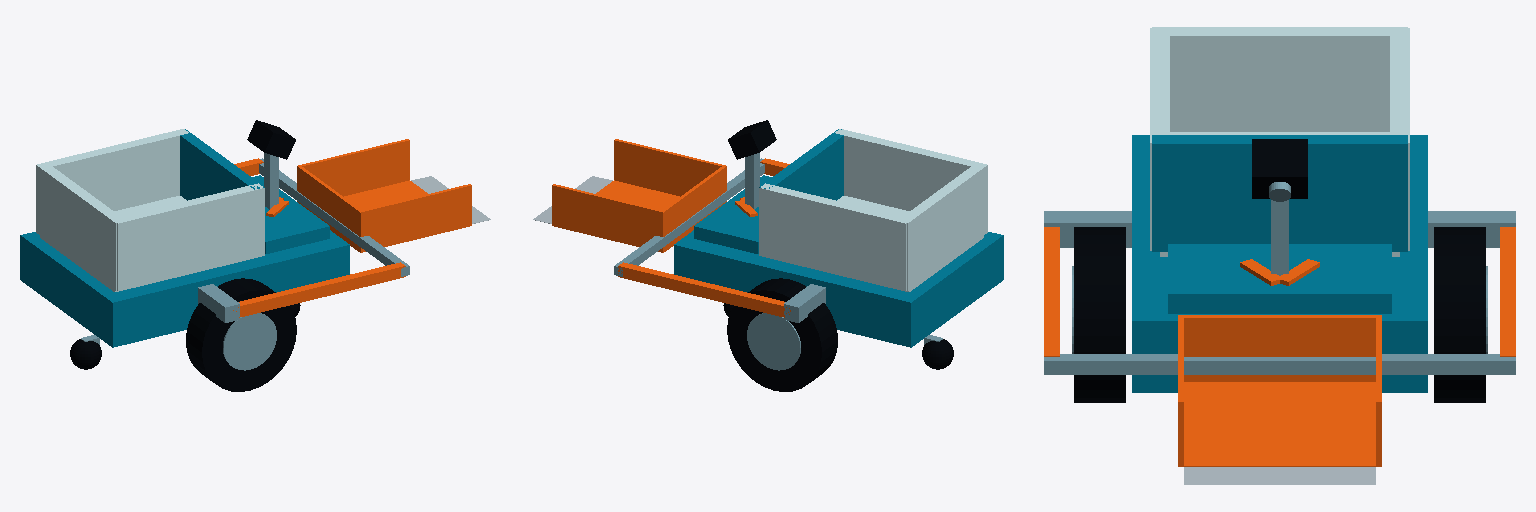
URDF robot description (tennis_ball_collector):
<?xml version='1.0' encoding='utf-8'?>
<robot name="tennis_ball_collector">
  <material name="body">
    <color rgba="0.03 0.53 0.65 1" />
  </material>
  <material name="basket">
    <color rgba="0.80 0.91 0.93 1" />
  </material>
  <material name="orange">
    <color rgba="1.0 0.44 0.10 1" />
  </material>
  <material name="rubber">
    <color rgba="0.045 0.06 0.08 1" />
  </material>
  <material name="hub">
    <color rgba="0.50 0.65 0.70 1" />
  </material>
  <link name="base_link">
    <inertial>
      <origin xyz="-0.025 0 0" />
      <mass value="7.0" />
      <inertia ixx="0.087" ixy="0" ixz="0" iyy="0.184" iyz="0" izz="0.256" />
    </inertial>
    <visual name="chassis">
      <origin xyz="0 0 -0.025" />
      <geometry>
        <box size="0.55 0.37 0.10" />
      </geometry>
      <material name="body" />
    </visual>
    <collision name="chassis_collision">
      <origin xyz="0 0 -0.025" />
      <geometry>
        <box size="0.55 0.37 0.10" />
      </geometry>
    </collision>
    <visual name="basket_floor">
      <origin xyz="-0.08 0 0.04" />
      <geometry>
        <box size="0.34 0.30 0.025" />
      </geometry>
      <material name="basket" />
    </visual>
    <collision name="basket_floor_collision">
      <origin xyz="-0.08 0 0.04" />
      <geometry>
        <box size="0.34 0.30 0.025" />
      </geometry>
    </collision>
    <visual name="basket_back">
      <origin xyz="-0.24 0 0.11" />
      <geometry>
        <box size="0.025 0.32 0.15" />
      </geometry>
      <material name="basket" />
    </visual>
    <collision name="basket_back_collision">
      <origin xyz="-0.24 0 0.11" />
      <geometry>
        <box size="0.025 0.32 0.15" />
      </geometry>
    </collision>
    <visual name="basket_left">
      <origin xyz="-0.08 0.15 0.11" />
      <geometry>
        <box size="0.34 0.025 0.15" />
      </geometry>
      <material name="basket" />
    </visual>
    <collision name="basket_left_collision">
      <origin xyz="-0.08 0.15 0.11" />
      <geometry>
        <box size="0.34 0.025 0.15" />
      </geometry>
    </collision>
    <visual name="basket_right">
      <origin xyz="-0.08 -0.15 0.11" />
      <geometry>
        <box size="0.34 0.025 0.15" />
      </geometry>
      <material name="basket" />
    </visual>
    <collision name="basket_right_collision">
      <origin xyz="-0.08 -0.15 0.11" />
      <geometry>
        <box size="0.34 0.025 0.15" />
      </geometry>
    </collision>
    <visual name="basket_front">
      <origin xyz="0.08 0 0.11" />
      <geometry>
        <box size="0.025 0.32 0.15" />
      </geometry>
      <material name="body" />
    </visual>
    <collision name="basket_front_collision">
      <origin xyz="0.08 0 0.11" />
      <geometry>
        <box size="0.025 0.32 0.15" />
      </geometry>
    </collision>
    <visual name="arm_pivot_shaft">
      <origin xyz="-0.06 0 -0.005" />
      <geometry>
        <box size="0.035 0.59 0.035" />
      </geometry>
      <material name="hub" />
    </visual>
    <visual name="front_deck">
      <origin xyz="0.18 0 0.035" />
      <geometry>
        <box size="0.15 0.28 0.035" />
      </geometry>
      <material name="body" />
    </visual>
    <visual name="camera_stand">
      <origin xyz="0.20 0 0.11" />
      <geometry><box size="0.022 0.022 0.14" /></geometry>
      <material name="hub" />
    </visual>
    <visual name="onboard_camera">
      <origin xyz="0.20 0 0.20" rpy="0 0.48869219 0" />
      <geometry><box size="0.06 0.07 0.045" /></geometry>
      <material name="rubber" />
    </visual>
    <visual name="camera_lens">
      <origin xyz="0.231 0 0.1835" rpy="0 2.05948852 0" />
      <geometry><cylinder radius="0.014" length="0.012" /></geometry>
      <material name="hub" />
    </visual>
    <visual name="direction_arrow_left">
      <origin xyz="0.20 0.023 0.057" rpy="0 0 -0.60" />
      <geometry>
        <box size="0.07 0.018 0.006" />
      </geometry>
      <material name="orange" />
    </visual>
    <visual name="direction_arrow_right">
      <origin xyz="0.20 -0.023 0.057" rpy="0 0 0.60" />
      <geometry>
        <box size="0.07 0.018 0.006" />
      </geometry>
      <material name="orange" />
    </visual>
  </link>
  <link name="left_wheel">
    <inertial>
      <mass value="0.35" />
      <inertia ixx="0.00118" ixy="0" ixz="0" iyy="0.00212" iyz="0" izz="0.00118" />
    </inertial>
    <visual>
      <origin rpy="1.57079632679 0 0" />
      <geometry>
        <cylinder radius="0.11" length="0.065" />
      </geometry>
      <material name="rubber" />
    </visual>
    <visual>
      <origin xyz="0 0.034 0" rpy="1.57079632679 0 0" />
      <geometry>
        <cylinder radius="0.062" length="0.004" />
      </geometry>
      <material name="hub" />
    </visual>
    <collision>
      <origin rpy="1.57079632679 0 0" />
      <geometry>
        <cylinder radius="0.11" length="0.065" />
      </geometry>
    </collision>
  </link>
  <joint name="left_wheel_joint" type="continuous">
    <parent link="base_link" />
    <child link="left_wheel" />
    <origin xyz="0 0.225 -0.095" />
    <axis xyz="0 1 0" />
    <limit effort="12" velocity="12" />
    <dynamics damping="0.05" friction="0.01" />
  </joint>
  <link name="right_wheel">
    <inertial>
      <mass value="0.35" />
      <inertia ixx="0.00118" ixy="0" ixz="0" iyy="0.00212" iyz="0" izz="0.00118" />
    </inertial>
    <visual>
      <origin rpy="1.57079632679 0 0" />
      <geometry>
        <cylinder radius="0.11" length="0.065" />
      </geometry>
      <material name="rubber" />
    </visual>
    <visual>
      <origin xyz="0 -0.034 0" rpy="1.57079632679 0 0" />
      <geometry>
        <cylinder radius="0.062" length="0.004" />
      </geometry>
      <material name="hub" />
    </visual>
    <collision>
      <origin rpy="1.57079632679 0 0" />
      <geometry>
        <cylinder radius="0.11" length="0.065" />
      </geometry>
    </collision>
  </link>
  <joint name="right_wheel_joint" type="continuous">
    <parent link="base_link" />
    <child link="right_wheel" />
    <origin xyz="0 -0.225 -0.095" />
    <axis xyz="0 1 0" />
    <limit effort="12" velocity="12" />
    <dynamics damping="0.05" friction="0.01" />
  </joint>
  <link name="shovel_arm">
    <inertial>
      <origin xyz="0.20 0 0" />
      <mass value="0.55" />
      <inertia ixx="0.0447" ixy="0" ixz="0" iyy="0.00735" iyz="0" izz="0.052" />
    </inertial>
    <visual name="left_arm">
      <origin xyz="0.20 0.285 0" />
      <geometry>
        <box size="0.40 0.02 0.025" />
      </geometry>
      <material name="orange" />
    </visual>
    <collision name="left_arm_collision">
      <origin xyz="0.20 0.285 0" />
      <geometry>
        <box size="0.40 0.02 0.025" />
      </geometry>
    </collision>
    <visual name="right_arm">
      <origin xyz="0.20 -0.285 0" />
      <geometry>
        <box size="0.40 0.02 0.025" />
      </geometry>
      <material name="orange" />
    </visual>
    <collision name="right_arm_collision">
      <origin xyz="0.20 -0.285 0" />
      <geometry>
        <box size="0.40 0.02 0.025" />
      </geometry>
    </collision>
    <visual name="bucket_pivot_shaft">
      <origin xyz="0.40 0 0" />
      <geometry>
        <box size="0.02 0.59 0.02" />
      </geometry>
      <material name="hub" />
    </visual>
  </link>
  <joint name="shovel_lift_joint" type="revolute">
    <parent link="base_link" />
    <child link="shovel_arm" />
    <origin xyz="-0.06 0 -0.005" />
    <axis xyz="0 -1 0" />
    <limit lower="-0.48" upper="2.25" effort="14" velocity="1.5" />
    <dynamics damping="0.08" friction="0.01" />
  </joint>
  <link name="shovel_bucket">
    <inertial>
      <origin xyz="0.12 0 0.005" />
      <mass value="0.30" />
      <inertia ixx="0.0020" ixy="0" ixz="0" iyy="0.0020" iyz="0" izz="0.0032" />
    </inertial>
    <visual name="shovel_floor">
      <origin xyz="0.125 0 -0.025" />
      <geometry>
        <box size="0.25 0.24 0.002" />
      </geometry>
      <material name="orange" />
    </visual>
    <collision name="shovel_floor_collision">
      <origin xyz="0.125 0 -0.025" />
      <geometry>
        <box size="0.25 0.24 0.002" />
      </geometry>
    </collision>
    <visual name="tip_ramp_candidate">
      <geometry><mesh filename="shovel_tip_wedge.obj" /></geometry>
      <material name="ramp_candidate"><color rgba="0.72 0.77 0.80 1" /></material>
    </visual>
    <collision name="tip_ramp_candidate_collision">
      <geometry><mesh filename="shovel_tip_wedge.obj" /></geometry>
    </collision>
    <visual name="shovel_back">
      <origin xyz="-0.004 0 0.020" />
      <geometry>
        <box size="0.008 0.256 0.09" />
      </geometry>
      <material name="orange" />
    </visual>
    <collision name="shovel_back_collision">
      <origin xyz="-0.004 0 0.020" />
      <geometry>
        <box size="0.008 0.256 0.09" />
      </geometry>
    </collision>
    <visual name="shovel_left">
      <origin xyz="0.125 0.124 0.020" />
      <geometry>
        <box size="0.25 0.008 0.09" />
      </geometry>
      <material name="orange" />
    </visual>
    <collision name="shovel_left_collision">
      <origin xyz="0.125 0.124 0.020" />
      <geometry>
        <box size="0.25 0.008 0.09" />
      </geometry>
    </collision>
    <visual name="shovel_right">
      <origin xyz="0.125 -0.124 0.020" />
      <geometry>
        <box size="0.25 0.008 0.09" />
      </geometry>
      <material name="orange" />
    </visual>
    <collision name="shovel_right_collision">
      <origin xyz="0.125 -0.124 0.020" />
      <geometry>
        <box size="0.25 0.008 0.09" />
      </geometry>
    </collision>
  </link>
  <joint name="shovel_tilt_joint" type="revolute">
    <parent link="shovel_arm" />
    <child link="shovel_bucket" />
    <origin xyz="0.40 0 0" />
    <axis xyz="0 -1 0" />
    <limit lower="-3.10" upper="0.85" effort="8" velocity="2.0" />
    <dynamics damping="0.04" friction="0.005" />
  </joint>
  <link name="front_caster_fork">
    <inertial>
      <origin xyz="-0.01 0 -0.015" />
      <mass value="0.02" />
      <inertia ixx="1e-05" ixy="0" ixz="0" iyy="1e-05" iyz="0" izz="1e-05" />
    </inertial>
    <visual>
      <origin xyz="-0.01 0 -0.015" />
      <geometry>
        <box size="0.035 0.018 0.035" />
      </geometry>
      <material name="hub" />
    </visual>
  </link>
  <joint name="front_caster_yaw" type="continuous">
    <parent link="base_link" />
    <child link="front_caster_fork" />
    <origin xyz="0.25 0 -0.143" />
    <axis xyz="0 0 1" />
    <limit effort="0.2" velocity="100" />
    <dynamics damping="0.0001" friction="0" />
  </joint>
  <link name="front_caster_wheel">
    <inertial>
      <origin xyz="0 0 0" />
      <mass value="0.04" />
      <inertia ixx="1.64e-05" ixy="0" ixz="0" iyy="1.64e-05" iyz="0" izz="1.64e-05" />
    </inertial>
    <visual>
      <geometry>
        <sphere radius="0.032" />
      </geometry>
      <material name="rubber" />
    </visual>
    <collision>
      <geometry>
        <sphere radius="0.032" />
      </geometry>
    </collision>
  </link>
  <joint name="front_caster_roll" type="continuous">
    <parent link="front_caster_fork" />
    <child link="front_caster_wheel" />
    <origin xyz="-0.02 0 -0.030" />
    <axis xyz="0 1 0" />
    <limit effort="0.2" velocity="100" />
    <dynamics damping="0.0001" friction="0" />
  </joint>
  <link name="rear_caster_fork">
    <inertial>
      <origin xyz="-0.01 0 -0.015" />
      <mass value="0.02" />
      <inertia ixx="1e-05" ixy="0" ixz="0" iyy="1e-05" iyz="0" izz="1e-05" />
    </inertial>
    <visual>
      <origin xyz="-0.01 0 -0.015" />
      <geometry>
        <box size="0.035 0.018 0.035" />
      </geometry>
      <material name="hub" />
    </visual>
  </link>
  <joint name="rear_caster_yaw" type="continuous">
    <parent link="base_link" />
    <child link="rear_caster_fork" />
    <origin xyz="-0.21 0 -0.143" />
    <axis xyz="0 0 1" />
    <limit effort="0.2" velocity="100" />
    <dynamics damping="0.0001" friction="0" />
  </joint>
  <link name="rear_caster_wheel">
    <inertial>
      <origin xyz="0 0 0" />
      <mass value="0.04" />
      <inertia ixx="1.64e-05" ixy="0" ixz="0" iyy="1.64e-05" iyz="0" izz="1.64e-05" />
    </inertial>
    <visual>
      <geometry>
        <sphere radius="0.032" />
      </geometry>
      <material name="rubber" />
    </visual>
    <collision>
      <geometry>
        <sphere radius="0.032" />
      </geometry>
    </collision>
  </link>
  <joint name="rear_caster_roll" type="continuous">
    <parent link="rear_caster_fork" />
    <child link="rear_caster_wheel" />
    <origin xyz="-0.02 0 -0.030" />
    <axis xyz="0 1 0" />
    <limit effort="0.2" velocity="100" />
    <dynamics damping="0.0001" friction="0" />
  </joint>
</robot>

--- Facts derived from the render (not from the file) ---
The picture shows the robot from 3 angles, left to right: view 1: azimuth 30°, elevation 25°; view 2: azimuth 150°, elevation 25°; view 3: azimuth 270°, elevation 25°; orthographic projection.
Model tennis_ball_collector with 9 links and 8 joints (2 revolute, 6 continuous), rooted at base_link, posed every joint at zero.
Links seen in each view (by area): view 1: base_link, shovel_bucket, right_wheel, shovel_arm, rear_caster_wheel; view 2: base_link, shovel_bucket, left_wheel, shovel_arm, rear_caster_wheel; view 3: base_link, shovel_bucket, shovel_arm, left_wheel, right_wheel.
Link boxes in pixels (left/top/right/bottom): base_link: left=20, top=120, right=349, bottom=347; shovel_bucket: left=297, top=139, right=490, bottom=252; right_wheel: left=186, top=278, right=296, bottom=391; shovel_arm: left=233, top=158, right=409, bottom=317; rear_caster_wheel: left=70, top=339, right=101, bottom=369; base_link: left=674, top=120, right=1003, bottom=347; shovel_bucket: left=533, top=139, right=726, bottom=252; left_wheel: left=727, top=278, right=837, bottom=391; shovel_arm: left=614, top=158, right=790, bottom=317; rear_caster_wheel: left=922, top=339, right=953, bottom=369; base_link: left=1044, top=27, right=1515, bottom=392; shovel_bucket: left=1178, top=315, right=1381, bottom=484; shovel_arm: left=1044, top=227, right=1515, bottom=374; left_wheel: left=1434, top=227, right=1487, bottom=402; right_wheel: left=1072, top=227, right=1125, bottom=402.
Size in the robot's own frame: 0.915 by 0.59 by 0.439 metres.
Meshes: 1 distinct files referenced, 1 mesh visuals loaded (1 OBJ).
